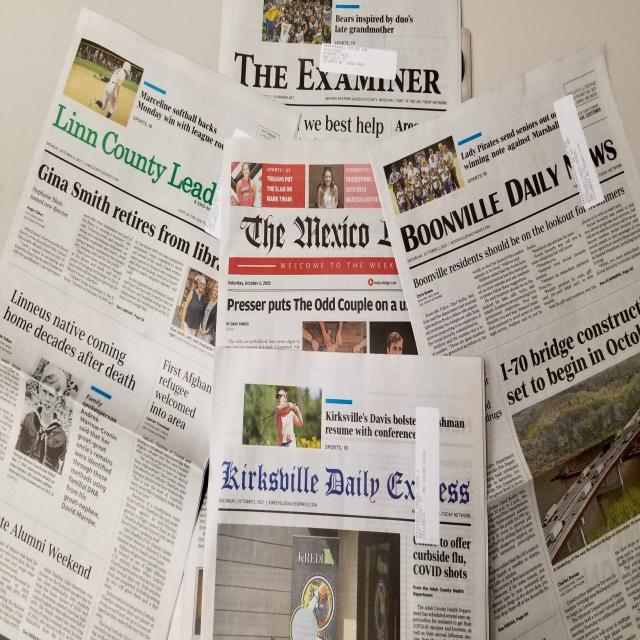newspaper: (0, 13, 226, 420), (383, 60, 640, 397), (203, 338, 480, 640), (0, 338, 202, 640), (475, 374, 640, 640), (224, 128, 412, 344), (225, 0, 465, 129)
